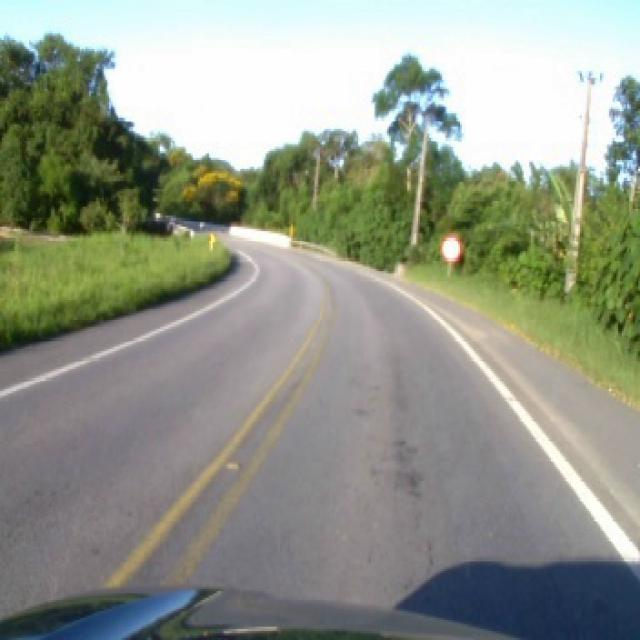Poth-hole: (223, 460, 240, 469)
